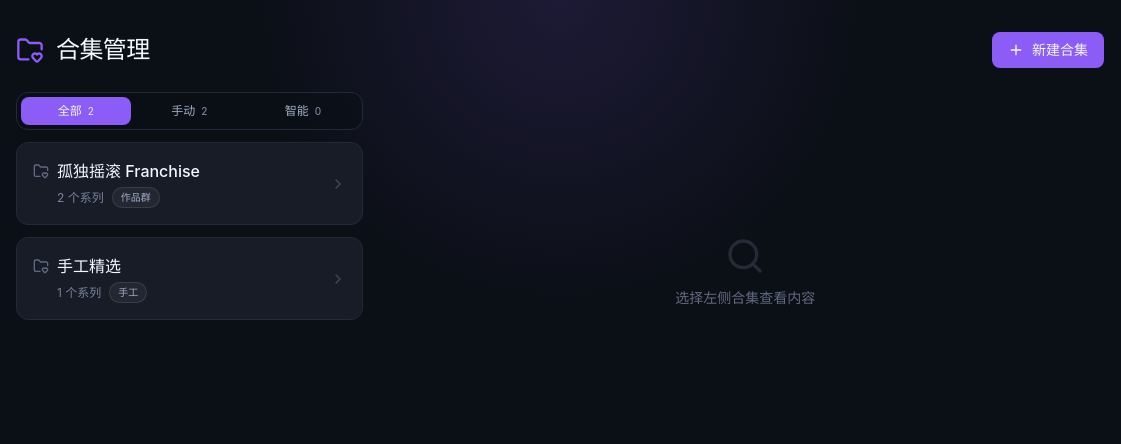
Test case: 合集页上的作品群 › 普通手工合集的删除、改名与移除成员入口不退化
The image size is (1121, 444).
Click the text "手工精选" at (89, 266), box [57, 254, 121, 278]
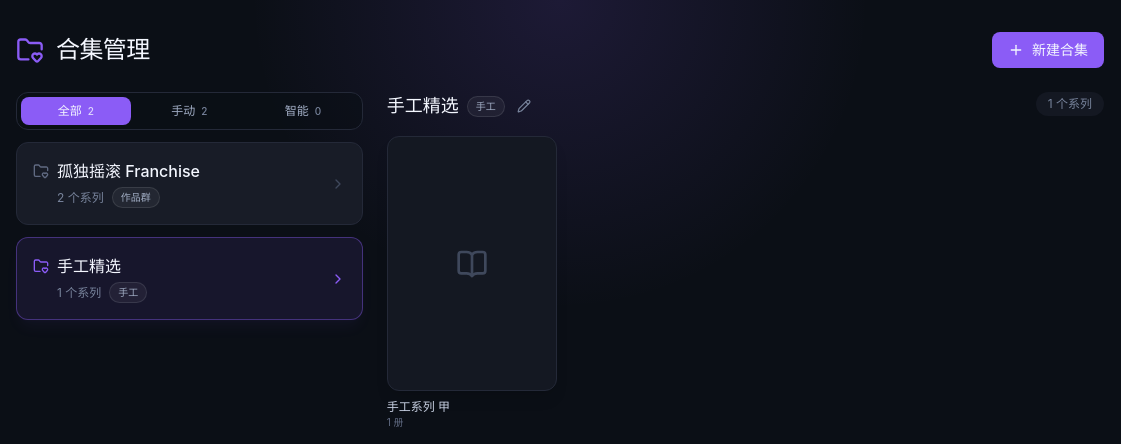
Now the text "手工系列 甲" is shown, box [387, 400, 450, 414]
Now the button named "编辑" is shown, box [513, 95, 535, 117]
